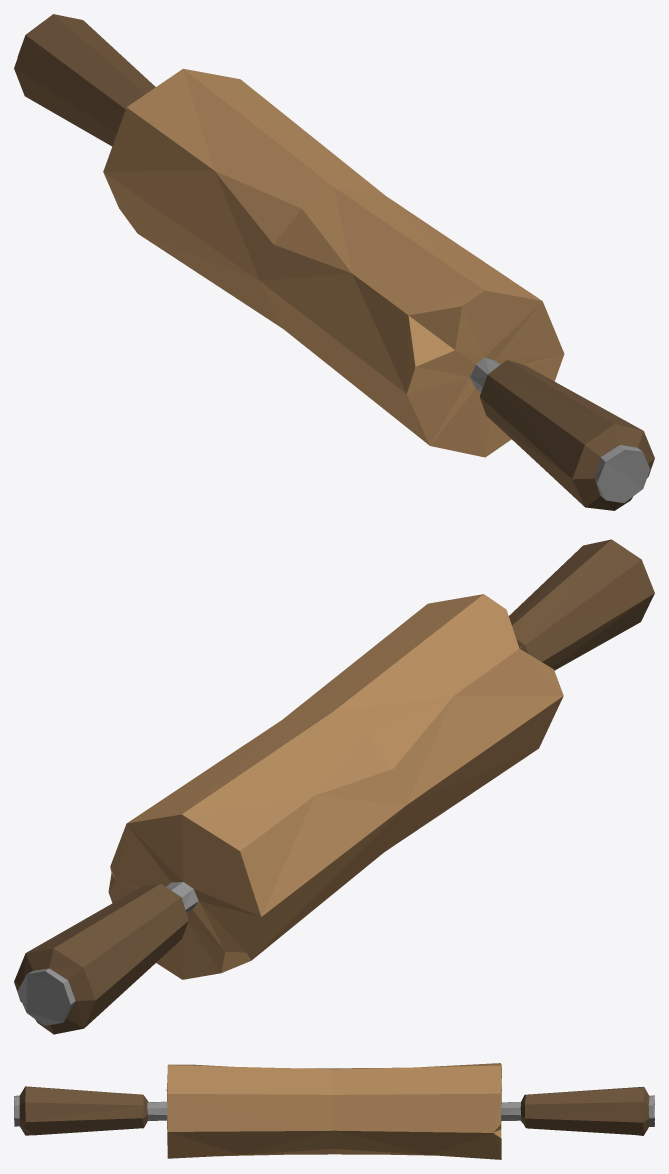
The model's file is SFI_Rolling_Pin.fbx.
The picture shows the model from 3 angles, top to bottom: view 1: azimuth 30°, elevation 25°; view 2: azimuth 150°, elevation 25°; view 3: azimuth 270°, elevation 25°; orthographic projection. The views are drawn at different scales.
Visible parts, largest first — view 1: SFI_Rolling_Pin; view 2: SFI_Rolling_Pin; view 3: SFI_Rolling_Pin.
Boxes of the visible parts, x1,y1,x2,y2 form: SFI_Rolling_Pin: (14, 14, 654, 510); SFI_Rolling_Pin: (14, 539, 654, 1034); SFI_Rolling_Pin: (14, 1063, 654, 1159).
Size of the model in its own units: 8.57 by 8.62 by 54.37.
